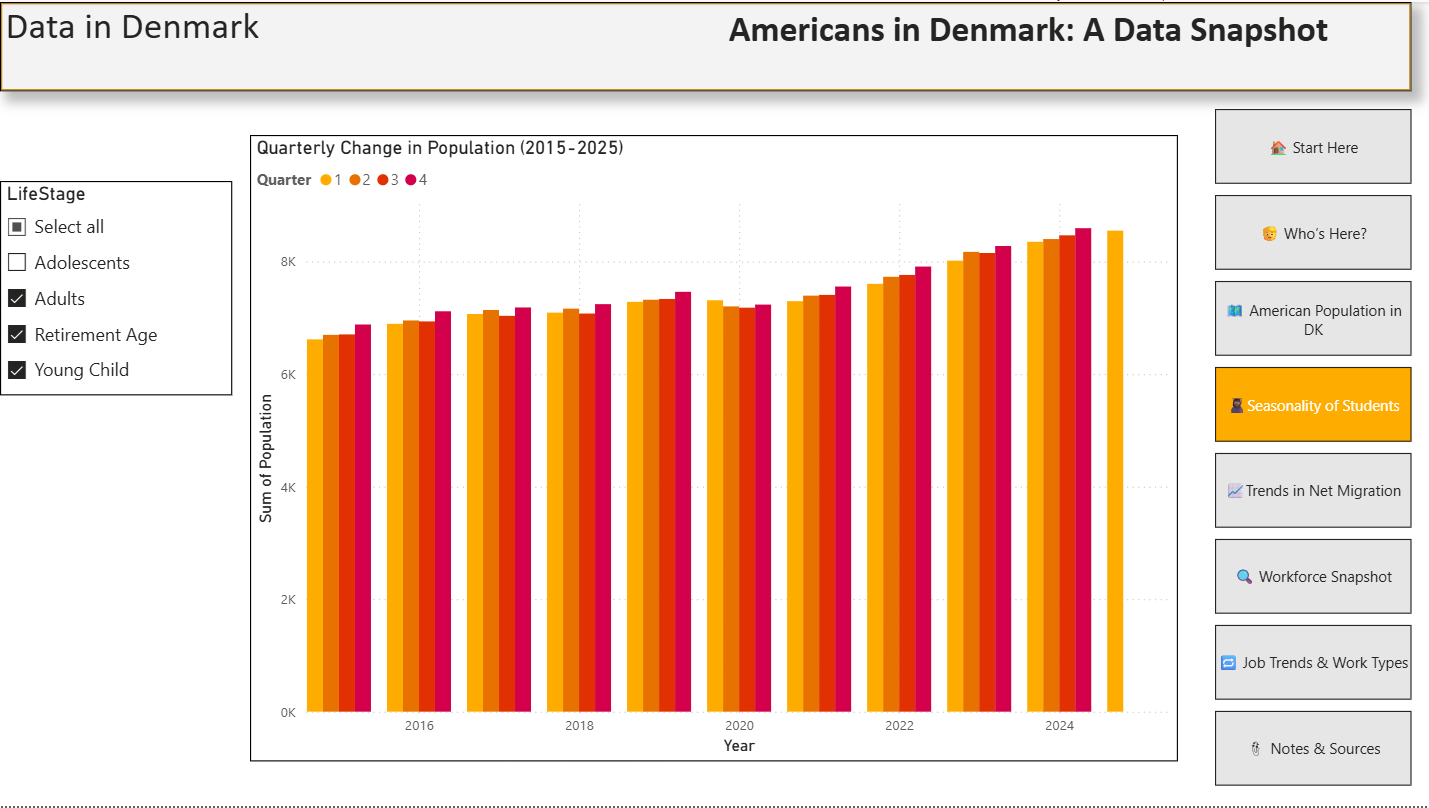

Layout of this report page (visuals, bound fields, positions):
{"tool":"powerbi","page":{"name":"👩🏾🎓Seasonality of Students","canvas":[1280,720],"ordinal":3},"visuals":[{"type":"group","id":"g1","title":"Group 3","box":[0,0,1264,80],"z":0},{"type":"shape","box":[0,0,1264,80],"z":0,"group":"g1"},{"type":"lineClusteredColumnComboChart","title":"Quarterly Change in Population (2015-2025)","fields":{"Category":["fact_age_pop_quarters.Time.Year"],"Y":["Sum(fact_age_pop_quarters.Population)"],"Series":["fact_age_pop_quarters.Time.Quarter"]},"box":[224.3,118.9,831.1,560.8],"z":1000},{"type":"listSlicer","fields":{"Values":["Dim_AgeGroup.LifeStage"]},"box":[0,160,208,192],"z":2000},{"type":"pageNavigator","box":[1088,96,176,608],"z":3000},{"type":"textbox","title":"Data in Denmark","box":[0,0,265,80],"z":4000,"group":"g2"},{"type":"textbox","box":[640,0,623.8,80],"z":5000,"group":"g2"},{"type":"group","id":"g2","title":"Group 4","box":[0,0,1263.8,80],"z":5002,"group":"g1"}]}

Visuals, with their boxes in screenshot pixels (x1, y1, x2, y2), scaled from the page's 1280x720 canvas onto the 1429x808 screenshot:
"Group 3" group: 0, 0, 1411, 90
shape: 0, 0, 1411, 90
"Quarterly Change in Population (2015-2025)" lineClusteredColumnComboChart: 250, 133, 1178, 763
listSlicer - Dim_AgeGroup.LifeStage: 0, 180, 232, 395
pageNavigator: 1215, 108, 1411, 790
"Data in Denmark" textbox: 0, 0, 296, 90
textbox: 714, 0, 1411, 90
"Group 4" group: 0, 0, 1411, 90
